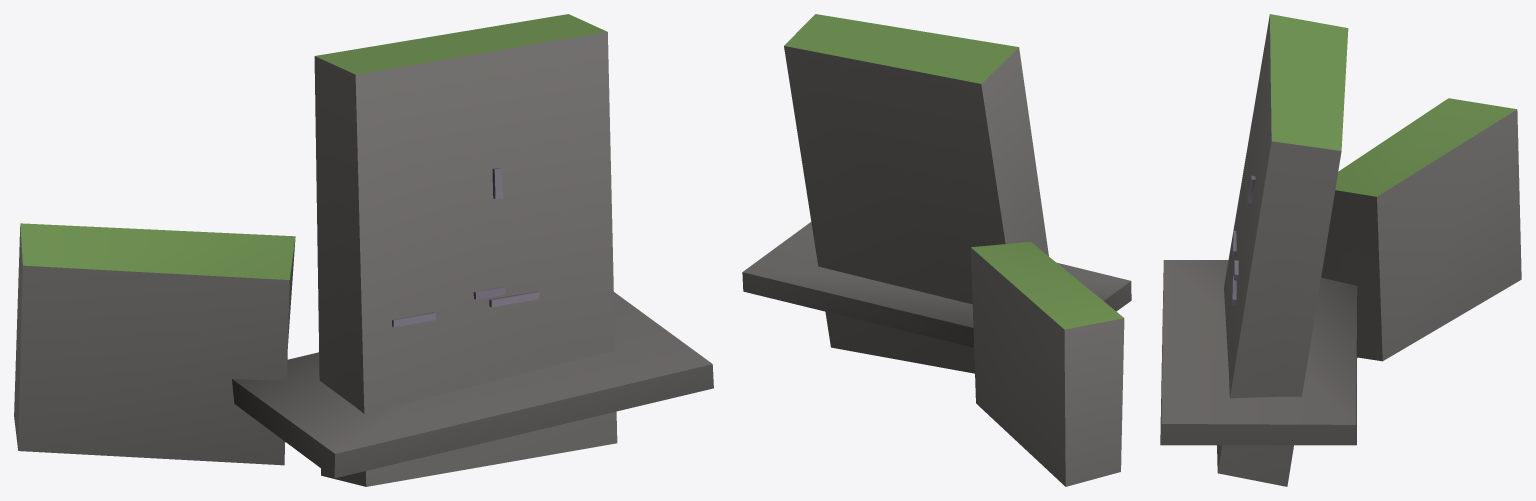
Rendered from obj_monolito.glb.
The picture shows the model from 3 angles, left to right: view 1: azimuth 30°, elevation 25°; view 2: azimuth 150°, elevation 25°; view 3: azimuth 270°, elevation 25°; orthographic projection. The views are drawn at different scales.
Visible parts, largest first — view 1: propforge-libre-monolito; view 2: propforge-libre-monolito; view 3: propforge-libre-monolito.
Part boxes in pixels (left/top/right/bottom): propforge-libre-monolito: left=14, top=14, right=713, bottom=486; propforge-libre-monolito: left=742, top=14, right=1131, bottom=486; propforge-libre-monolito: left=1160, top=14, right=1521, bottom=486.
Bounding box in the file's own units: 0.9428 × 0.7196 × 0.6278.
